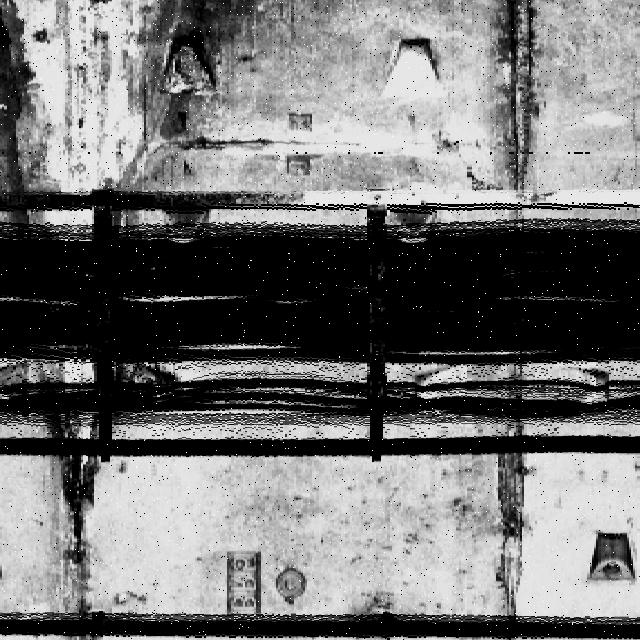leakage: (1, 2, 258, 543)
